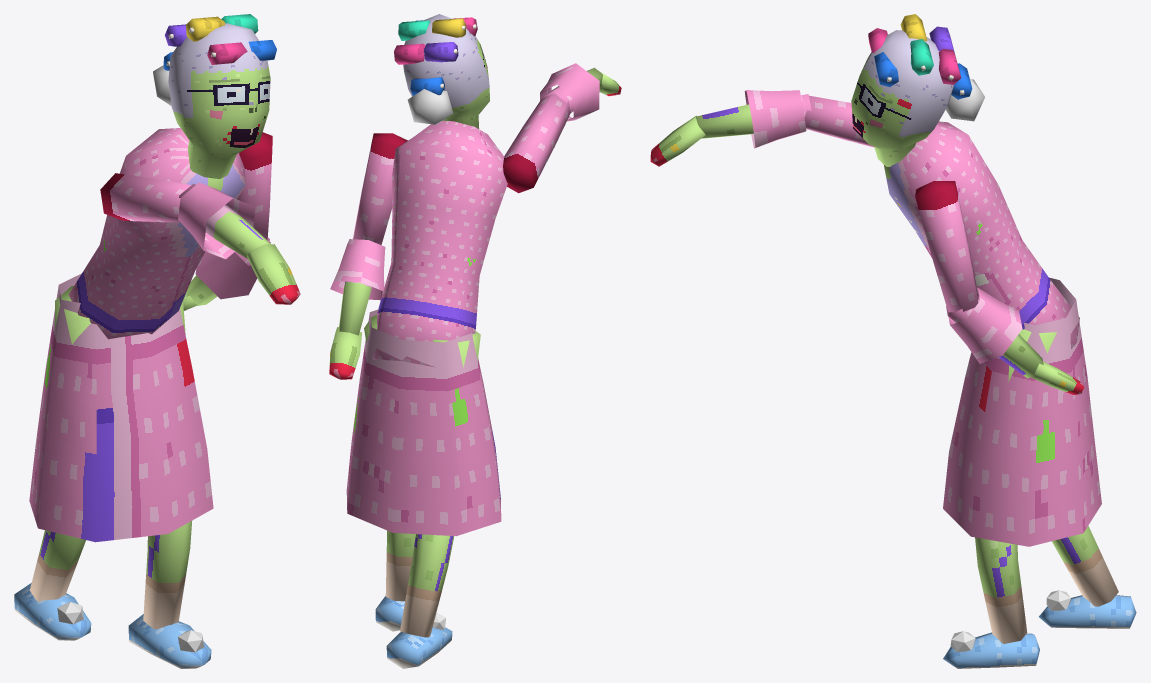
The model's file is Walker Granny.fbx.
The picture shows the model from 3 angles, left to right: view 1: azimuth 30°, elevation 25°; view 2: azimuth 150°, elevation 25°; view 3: azimuth 270°, elevation 25°; orthographic projection. The views are drawn at different scales.
Visible parts, largest first — view 1: Walker Granny robe skirt, Walker Granny torso, Walker Granny head.001, Walker Granny shin L.001, Walker Granny upper arm R, Walker Granny sleeve R, Walker Granny shin R.001, Walker Granny upper arm L, Walker Granny slipper L, Walker Granny slipper R, Walker Granny sleeve L, Walker Granny hand R.001 (+9 smaller); view 2: Walker Granny robe skirt, Walker Granny torso, Walker Granny head.001, Walker Granny upper arm R, Walker Granny shin R.001, Walker Granny upper arm L, Walker Granny sleeve L, Walker Granny sleeve R, Walker Granny slipper R, Walker Granny shin L.001, Walker Granny hand L.001, Walker Granny forearm L.001 (+7 smaller); view 3: Walker Granny robe skirt, Walker Granny torso, Walker Granny head.001, Walker Granny upper arm L, Walker Granny shin L.001, Walker Granny sleeve L, Walker Granny shin R.001, Walker Granny sleeve R, Walker Granny slipper L, Walker Granny slipper R, Walker Granny upper arm R, Walker Granny forearm R.001 (+4 smaller).
Part boxes in pixels (x1,y1,x2,y2): Walker Granny robe skirt: (29,273,213,542); Walker Granny torso: (68,128,245,339); Walker Granny head.001: (168,23,270,178); Walker Granny shin L.001: (143,521,191,629); Walker Granny upper arm R: (100,173,191,222); Walker Granny sleeve R: (178,182,255,259); Walker Granny shin R.001: (29,530,85,601); Walker Granny upper arm L: (237,132,272,240); Walker Granny slipper L: (128,614,211,668); Walker Granny slipper R: (14,583,91,640); Walker Granny sleeve L: (195,242,270,299); Walker Granny hand R.001: (246,244,300,304); Walker Granny robe skirt: (346,309,501,536); Walker Granny torso: (372,121,507,367); Walker Granny head.001: (403,14,489,128); Walker Granny upper arm R: (503,93,570,193); Walker Granny shin R.001: (400,534,454,637); Walker Granny upper arm L: (353,133,407,245); Walker Granny sleeve L: (330,239,385,300); Walker Granny sleeve R: (540,63,599,121); Walker Granny slipper R: (386,627,452,668); Walker Granny shin L.001: (385,530,415,601); Walker Granny hand L.001: (329,327,361,379); Walker Granny forearm L.001: (339,281,371,335); Walker Granny robe skirt: (943,277,1101,546); Walker Granny torso: (884,121,1079,348); Walker Granny head.001: (851,30,953,166); Walker Granny upper arm L: (915,181,978,312); Walker Granny shin L.001: (975,537,1027,643); Walker Granny sleeve L: (948,287,1022,363); Walker Granny shin R.001: (1052,526,1118,606); Walker Granny sleeve R: (744,90,806,148); Walker Granny slipper L: (943,632,1039,668); Walker Granny slipper R: (1039,595,1136,628); Walker Granny upper arm R: (804,95,874,147); Walker Granny forearm R.001: (696,94,811,138).
Bounding box in the file's own units: 0.5582 × 1.74 × 1.19.
17 materials, 15 textured.
